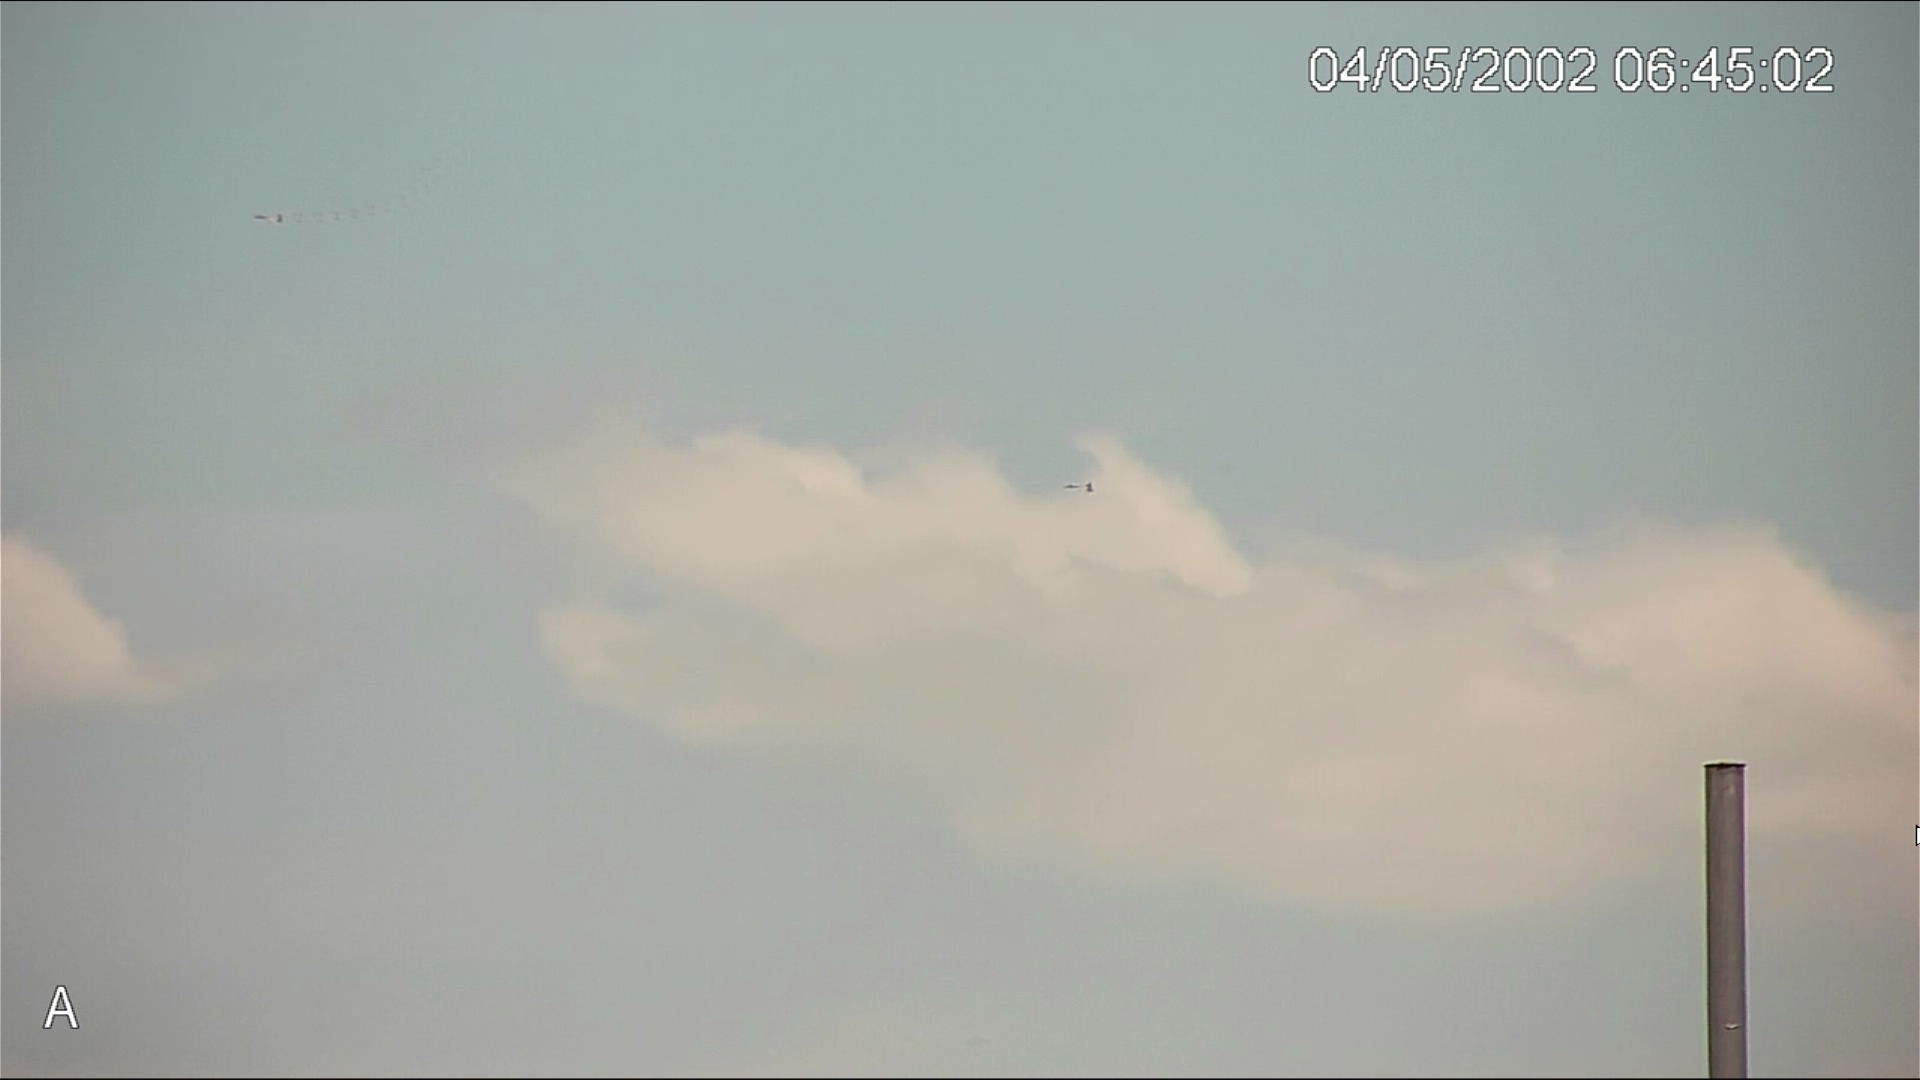SU_30: (1063, 479, 1097, 497)
